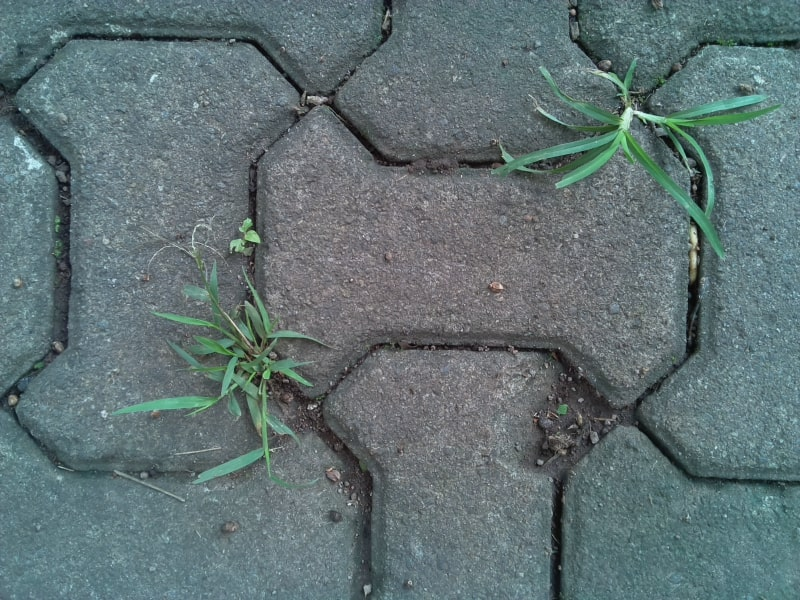Weed: (542, 79, 724, 194), (197, 296, 312, 418), (229, 221, 262, 257)
